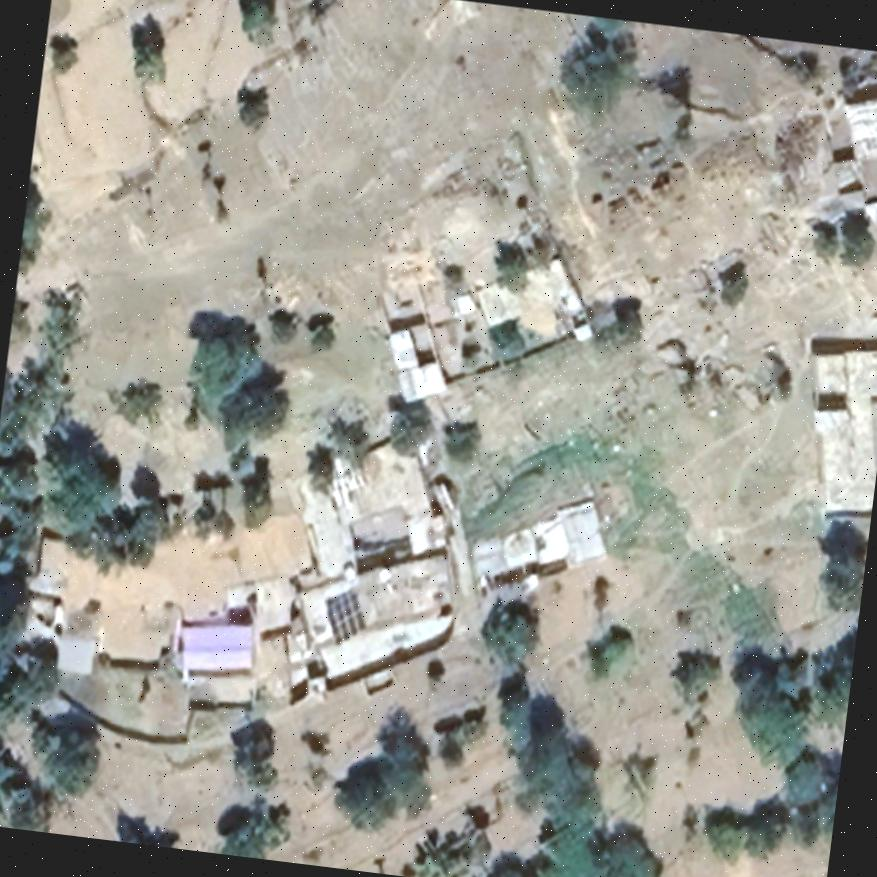Solarpanel: (323, 583, 368, 642)
